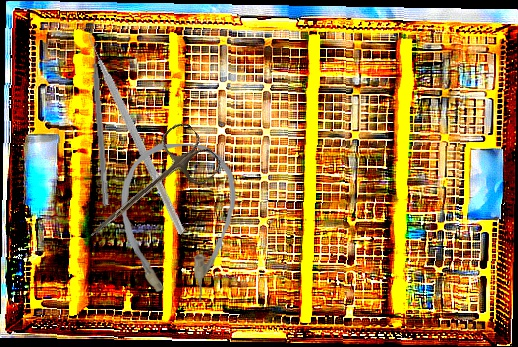Cannula: (116, 142, 239, 303)
Chopper: (23, 18, 255, 236)
Iris Scissors: (72, 117, 225, 263)
Spatula Surgical: (88, 42, 117, 206)
